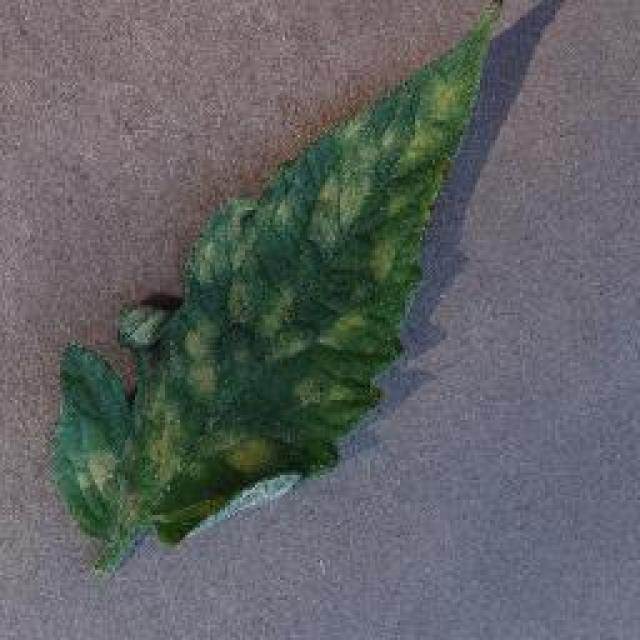Tomato___Leaf_Mold: (55, 15, 488, 565)
